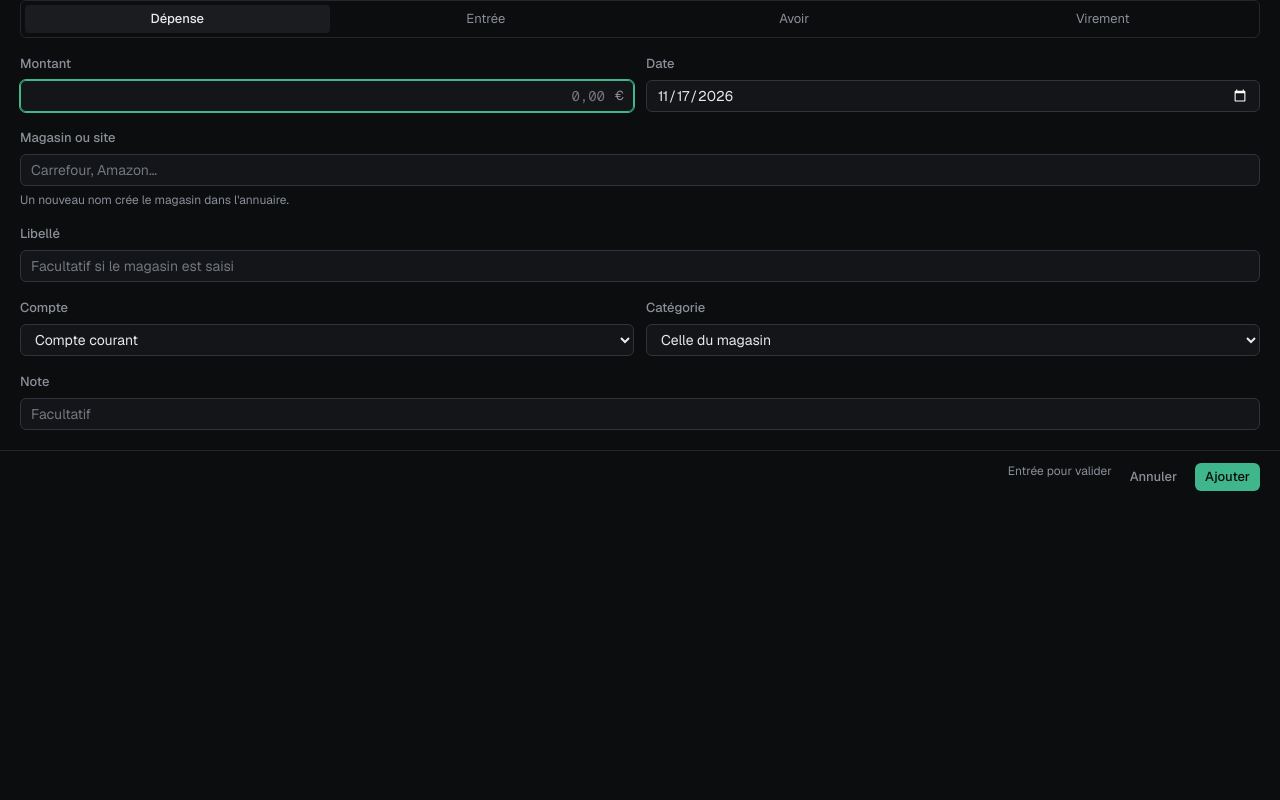
Test case: TransactionForm › shows the server error and stays open
Type "5" into the field labelled "Montant" at (327, 96), box x1=20 y1=80 x2=634 y2=112
Then press Enter
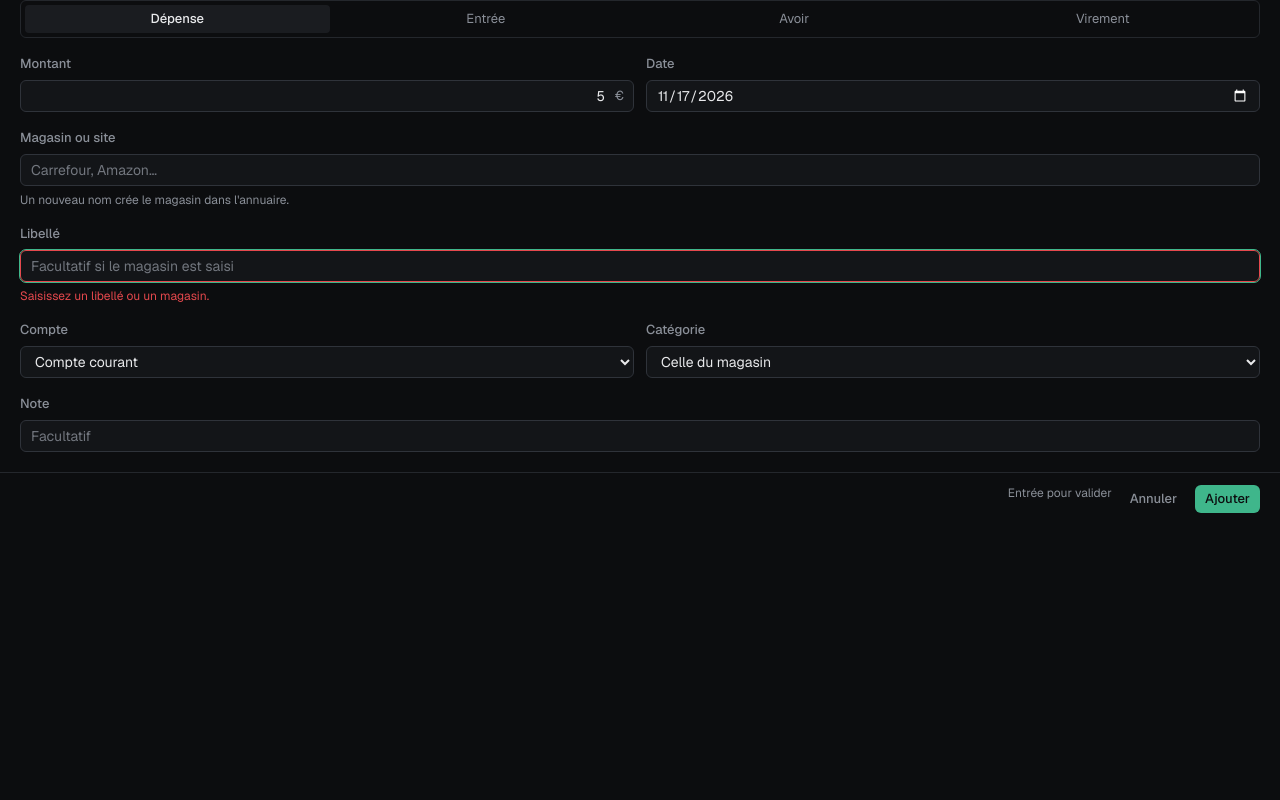
Type "Pain" into the field labelled "Libellé" at (640, 266), box x1=20 y1=250 x2=1260 y2=282
Then press Enter
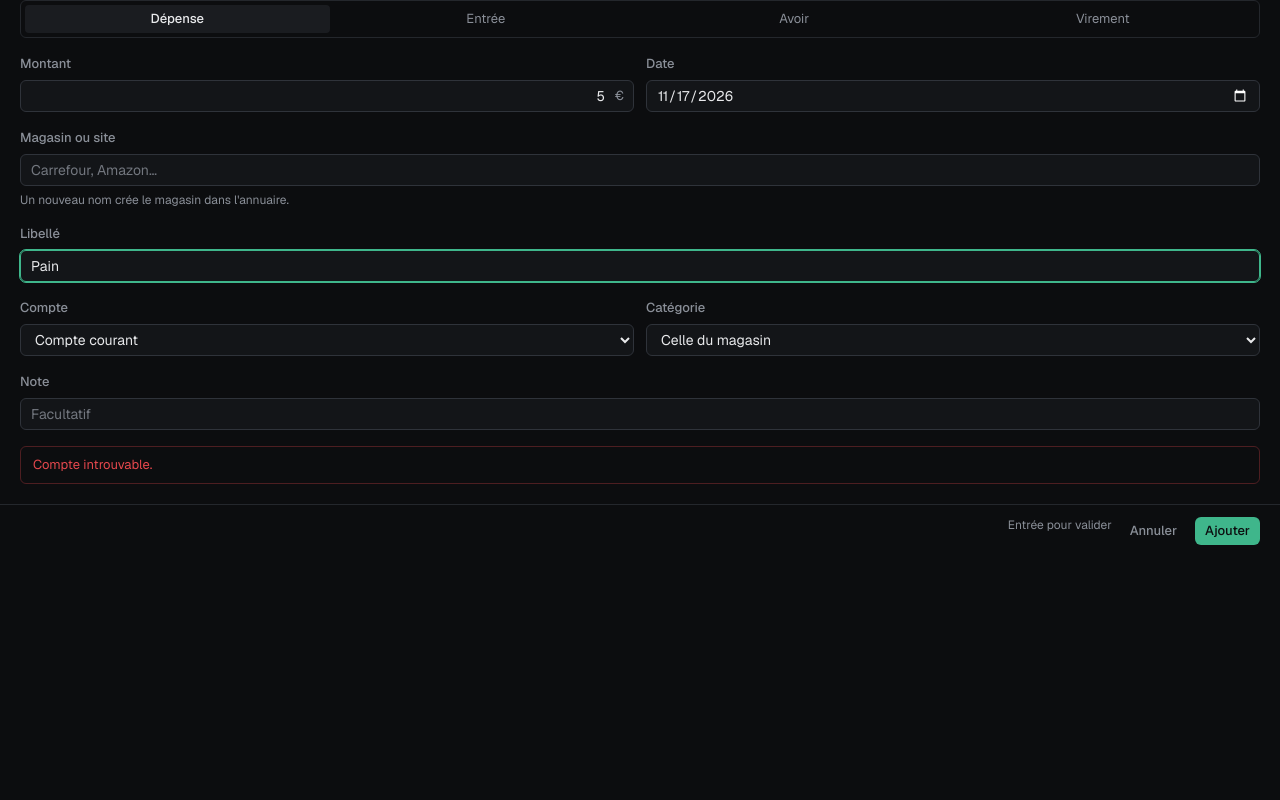
Result: the message reads "Compte introuvable." at x1=33 y1=456 x2=152 y2=473
